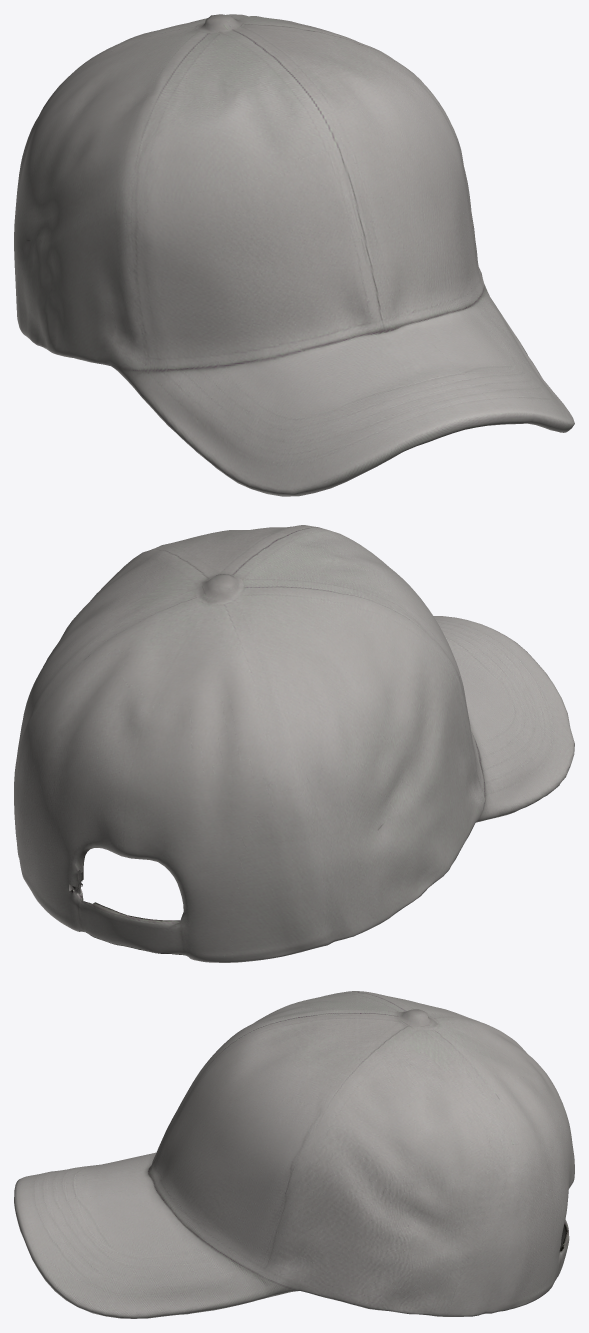
File: baseball-cap.glb
The picture shows the model from 3 angles, top to bottom: view 1: azimuth 30°, elevation 25°; view 2: azimuth 150°, elevation 25°; view 3: azimuth 270°, elevation 25°; orthographic projection. The views are drawn at different scales.
Visible parts, largest first — view 1: Mesh_0; view 2: Mesh_0; view 3: Mesh_0.
Part boxes in pixels (left/top/right/bottom): Mesh_0: left=14, top=14, right=574, bottom=496; Mesh_0: left=14, top=525, right=574, bottom=962; Mesh_0: left=14, top=991, right=574, bottom=1318.
Bounding box in the file's own units: 1.25 × 0.9318 × 1.88.
1 material, 1 textured.
